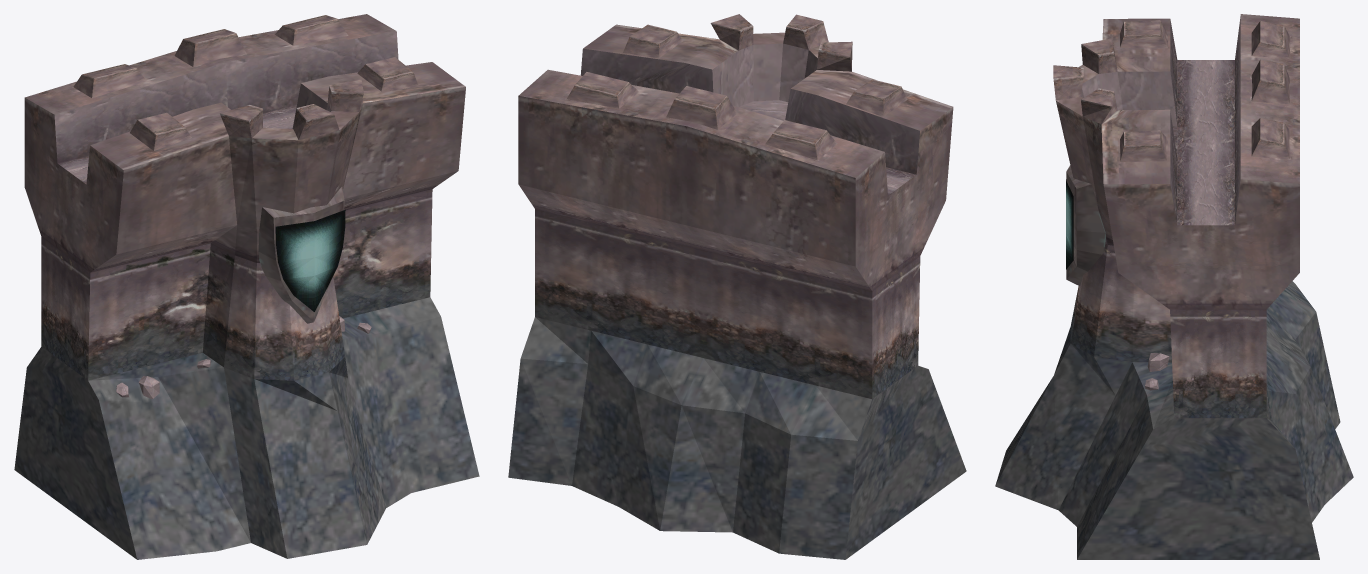
Rendered from C4SMWA10C_H.obj.
3 views of the same model, side by side, from view 1: azimuth 30°, elevation 25°; view 2: azimuth 150°, elevation 25°; view 3: azimuth 270°, elevation 25° (orthographic).
Parts seen in each view (by area): view 1: Node 0, Node 3; view 2: Node 0; view 3: Node 0, Node 3.
Boxes of the visible parts, <box> form: Node 0: <box>14,14,479,559</box>; Node 3: <box>275,209,345,311</box>; Node 0: <box>508,14,966,559</box>; Node 0: <box>995,14,1353,559</box>; Node 3: <box>1066,179,1073,269</box>.
Bounding box in the file's own units: 10 × 11.53 × 9.17.
5 materials, 5 textured.
